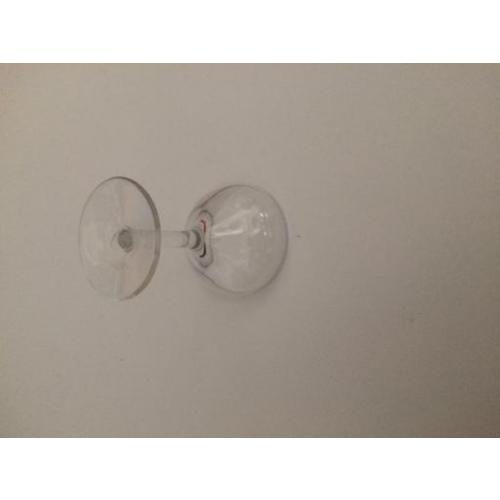glass: (81, 174, 283, 302)
